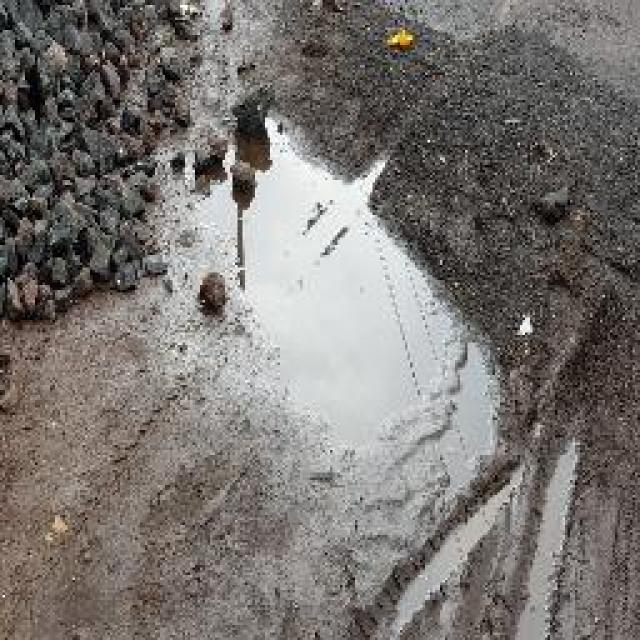puddle: (220, 142, 467, 454)
